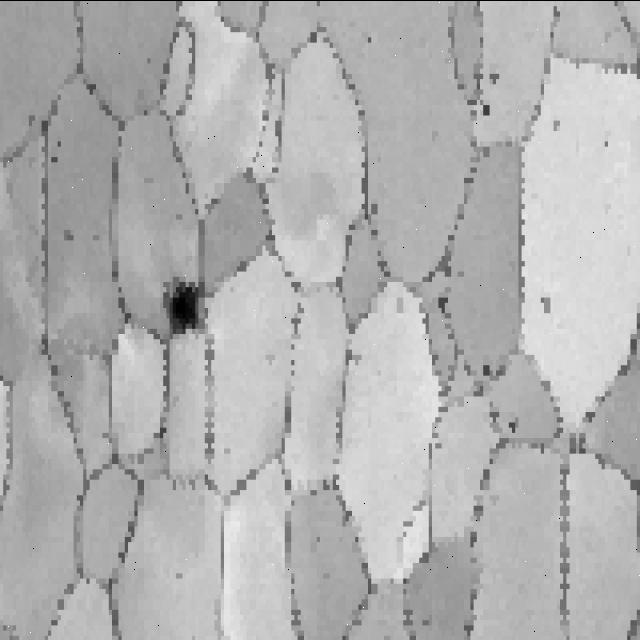good_void: (157, 270, 204, 343), (532, 289, 553, 317), (434, 293, 453, 316), (504, 415, 519, 435), (61, 223, 74, 244), (548, 113, 562, 132), (488, 65, 501, 83), (480, 359, 491, 380), (480, 102, 492, 120), (48, 152, 59, 168)
